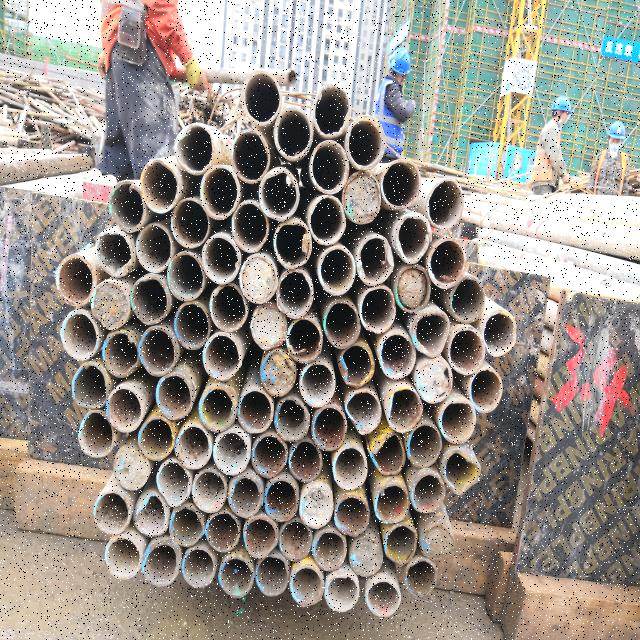pipe: (59, 308, 102, 362), (311, 140, 351, 197), (139, 160, 181, 213), (168, 197, 210, 250), (230, 129, 268, 187), (134, 222, 176, 274), (260, 168, 300, 222), (108, 180, 148, 234), (240, 75, 282, 126), (342, 173, 382, 226), (426, 177, 466, 230), (230, 200, 270, 253), (94, 228, 136, 278), (90, 282, 132, 332), (202, 336, 245, 384), (348, 116, 386, 170), (174, 122, 212, 176), (443, 445, 481, 499), (174, 301, 212, 355), (317, 244, 357, 295), (315, 84, 351, 140), (309, 193, 347, 246), (429, 236, 467, 288), (240, 252, 278, 304), (102, 536, 144, 583), (394, 212, 431, 265), (202, 235, 241, 285), (56, 256, 95, 306), (413, 306, 449, 360), (382, 160, 422, 208), (356, 236, 396, 284), (138, 326, 177, 375), (381, 329, 417, 382), (322, 298, 360, 348), (250, 303, 288, 353), (114, 442, 152, 492), (102, 326, 140, 376), (70, 363, 112, 408), (167, 254, 206, 302), (386, 385, 424, 434), (195, 385, 237, 429), (216, 552, 256, 598), (441, 397, 477, 448), (343, 389, 382, 436), (201, 170, 239, 218), (310, 404, 348, 452), (210, 286, 248, 334), (106, 386, 144, 434), (274, 218, 310, 268), (416, 358, 455, 404), (139, 414, 178, 460), (361, 286, 398, 334), (278, 270, 315, 318), (192, 468, 229, 516), (144, 540, 181, 588), (91, 490, 133, 532), (157, 374, 196, 419), (154, 463, 193, 508), (370, 431, 408, 477), (300, 362, 338, 408), (274, 398, 312, 444), (450, 327, 484, 378), (409, 421, 443, 472), (260, 348, 296, 396), (236, 390, 276, 433), (78, 411, 116, 456), (452, 276, 486, 326), (334, 444, 369, 492), (131, 278, 169, 322), (338, 342, 374, 388), (312, 527, 348, 573), (176, 424, 212, 470), (402, 556, 439, 600), (286, 320, 323, 364), (132, 491, 168, 536), (375, 481, 410, 527), (240, 516, 279, 557), (215, 433, 252, 476), (205, 512, 244, 552), (350, 534, 386, 577), (334, 491, 368, 536), (410, 473, 446, 515), (299, 486, 335, 528), (266, 480, 302, 522), (256, 556, 290, 600), (365, 578, 402, 618), (278, 522, 316, 560), (421, 522, 457, 562), (226, 474, 262, 514), (168, 504, 204, 544), (385, 524, 419, 566), (290, 566, 324, 608), (485, 314, 518, 356), (182, 548, 215, 590), (472, 368, 502, 413), (326, 574, 360, 612), (254, 437, 286, 477), (290, 443, 322, 481), (286, 67, 298, 87)
